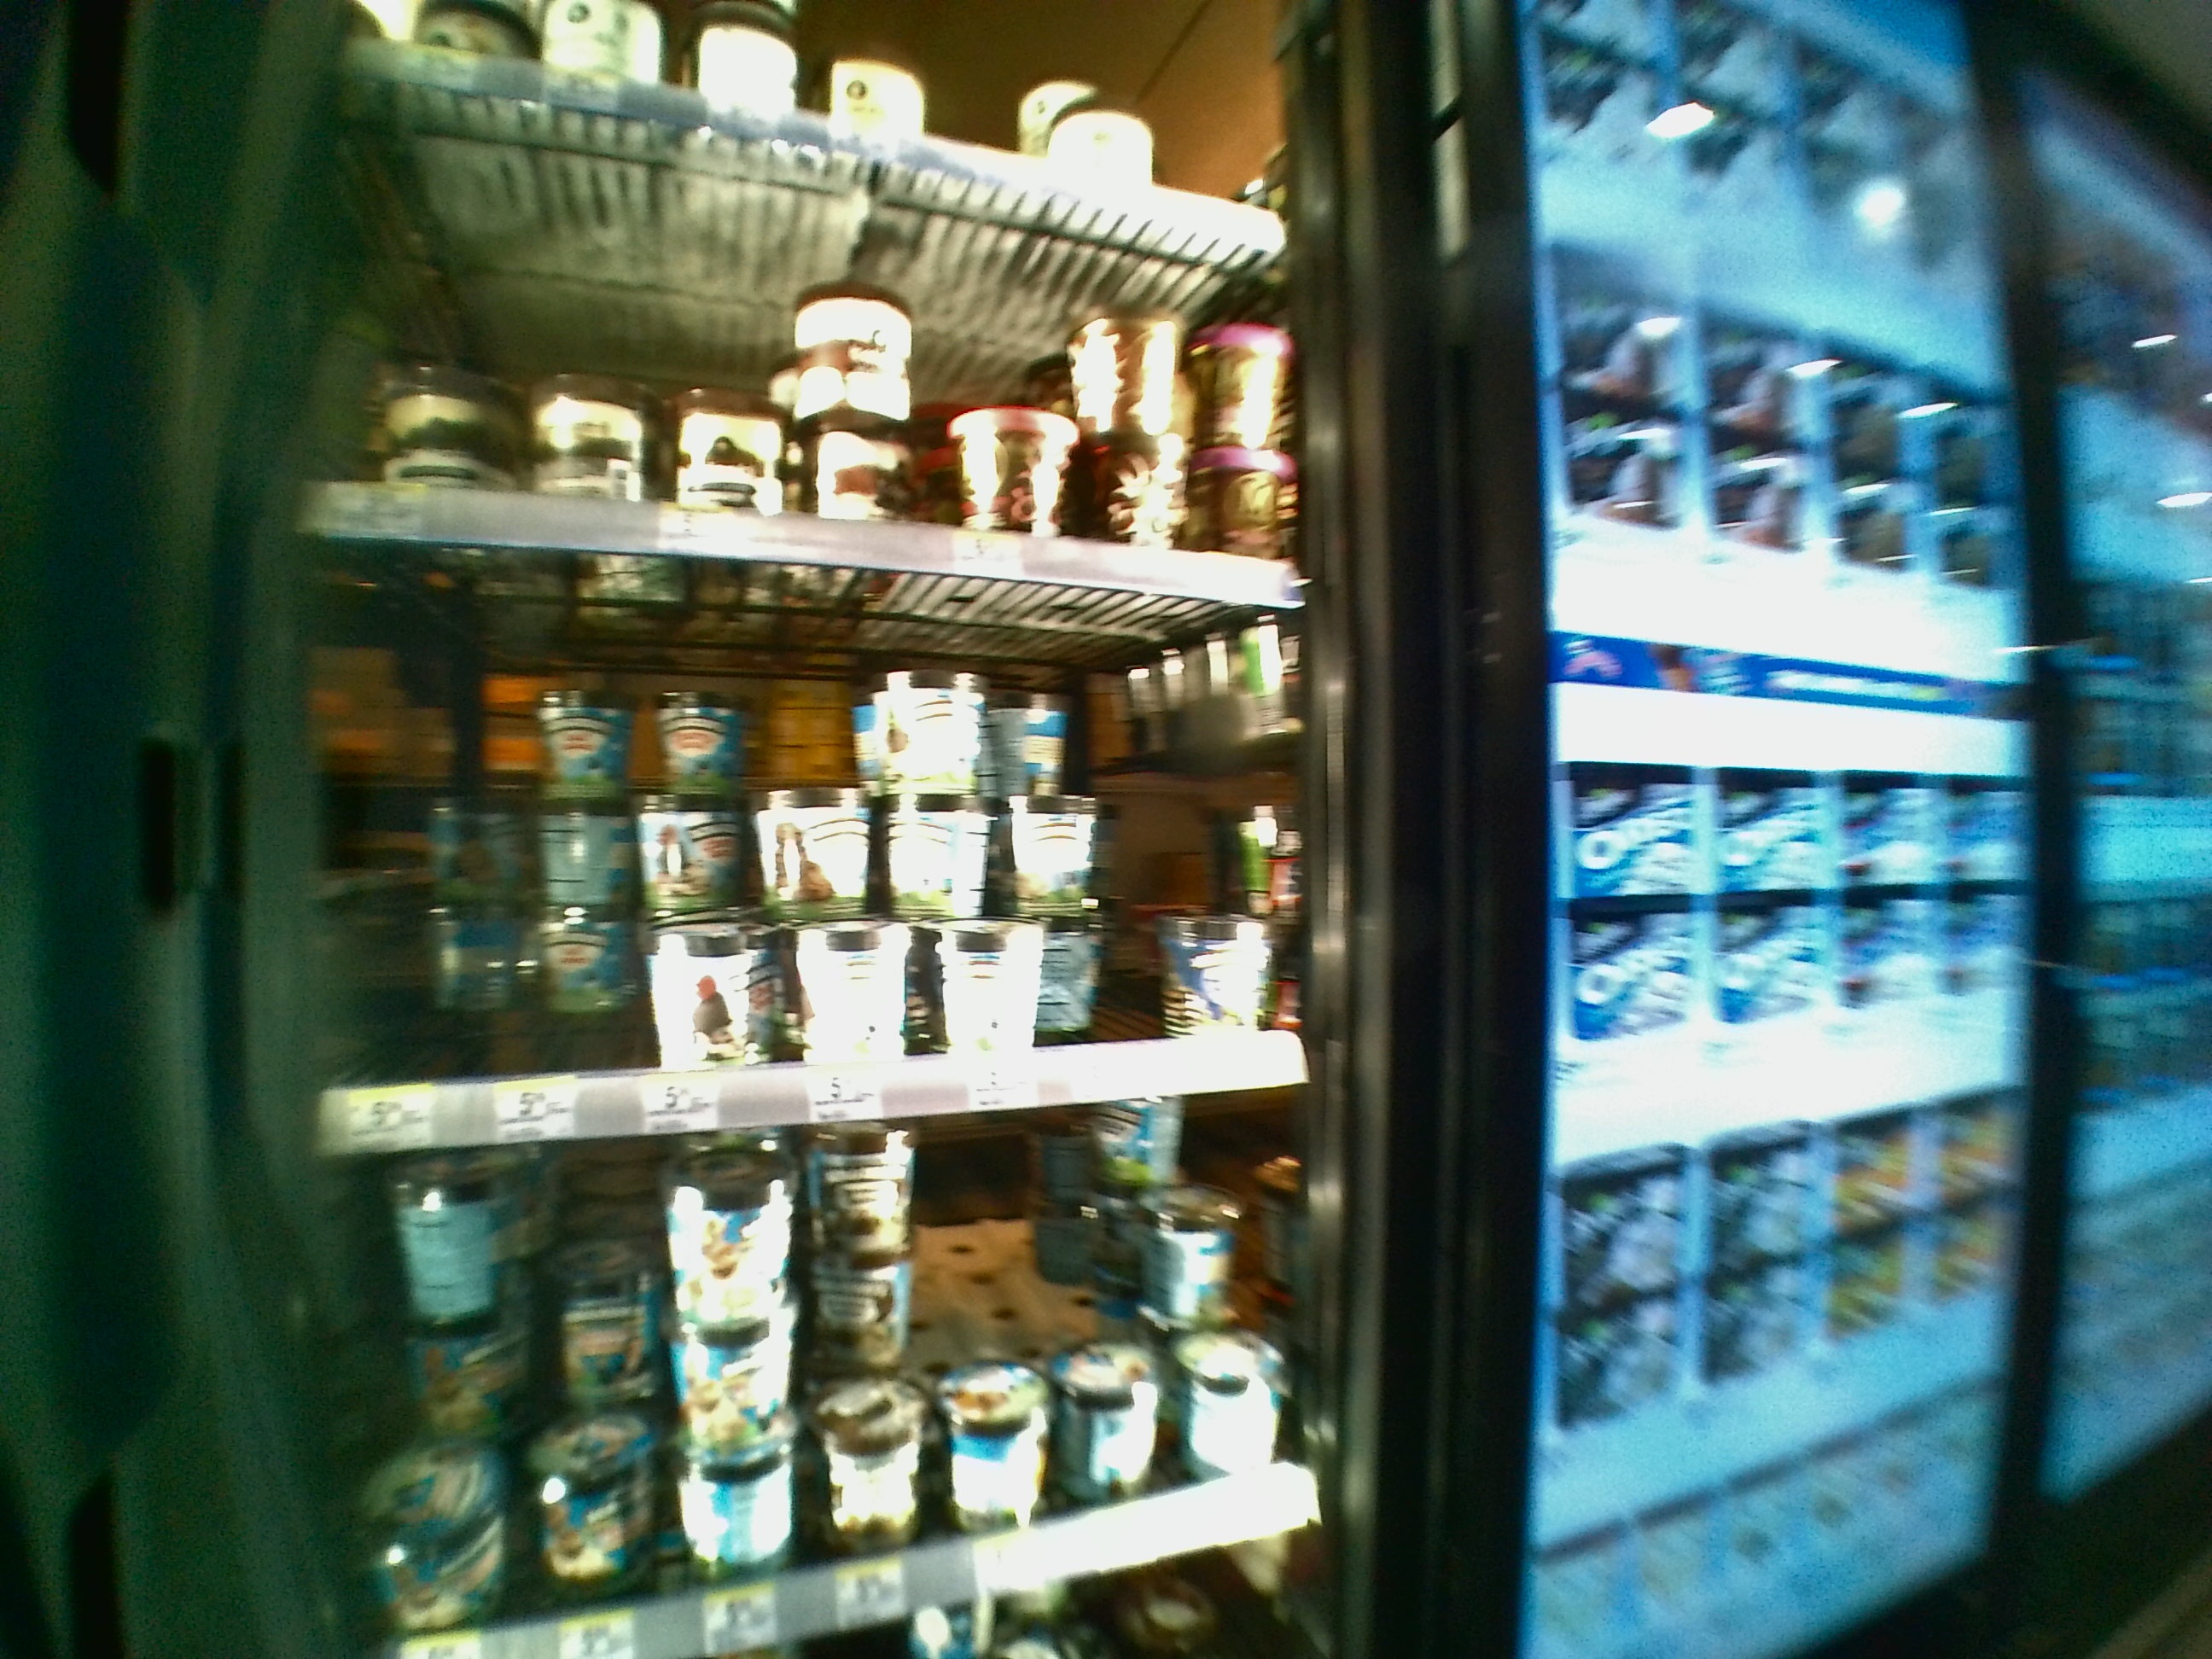shelf: (298, 545, 1320, 1138)
